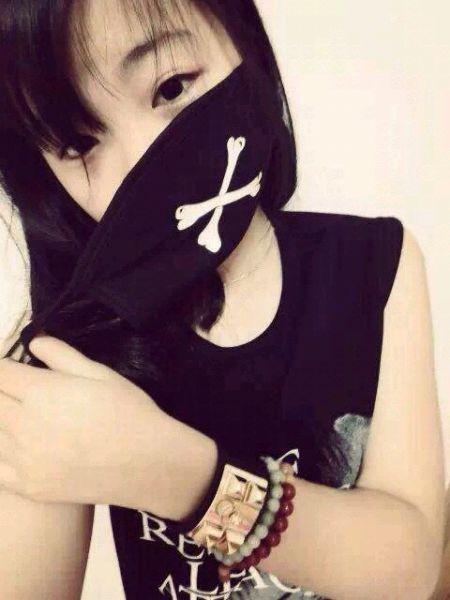WRONG: (10, 29, 263, 282)
